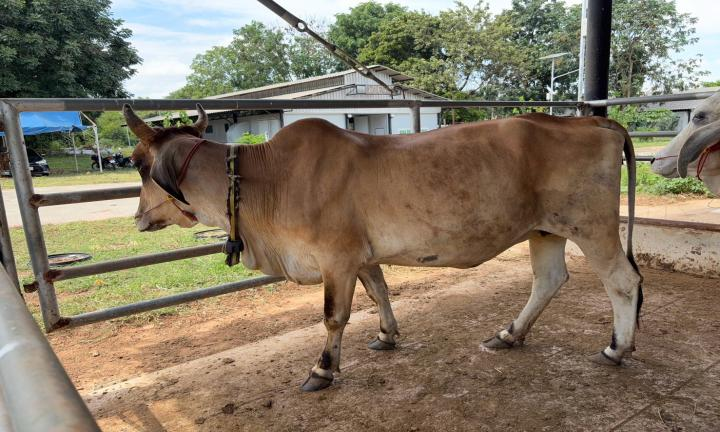Brahman: (123, 104, 642, 391)
